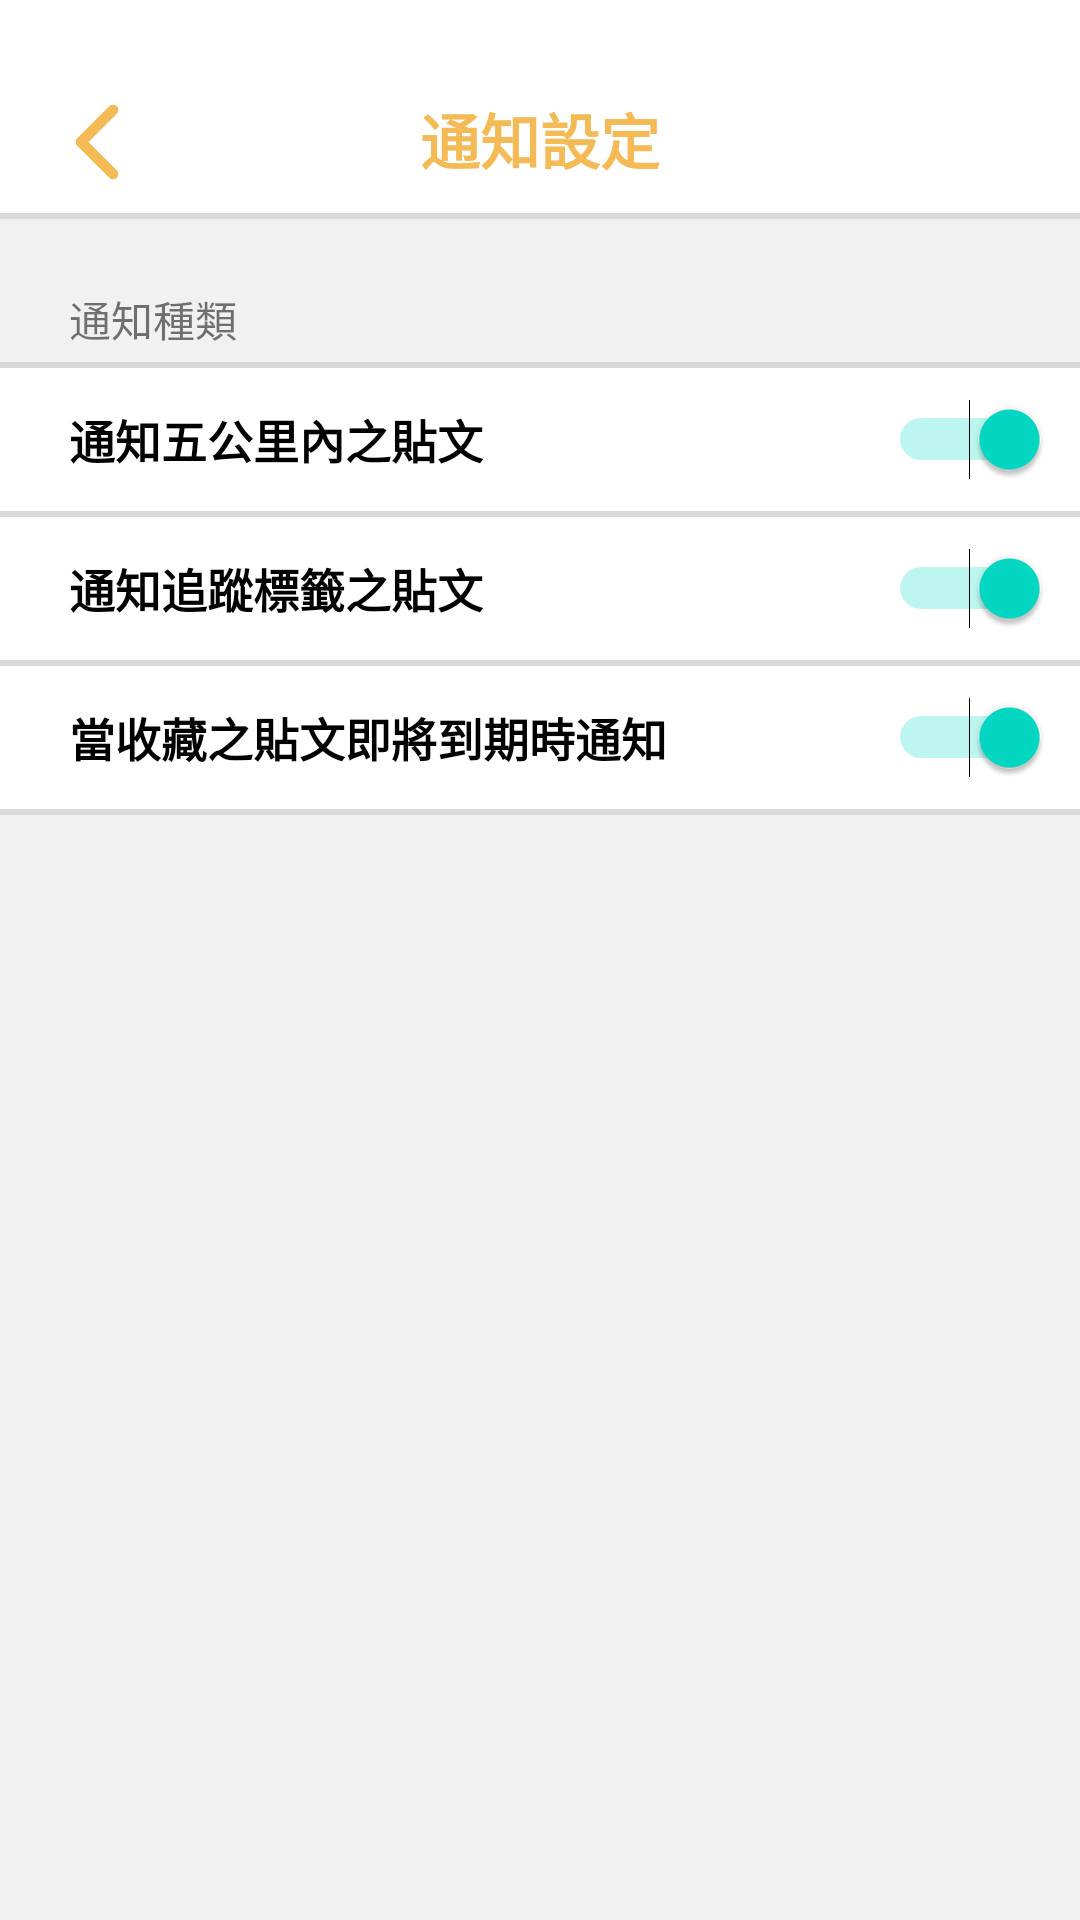

Icon click points for this 1080*1920 phone screenshot, format [x,y]:
back: [97,142]
